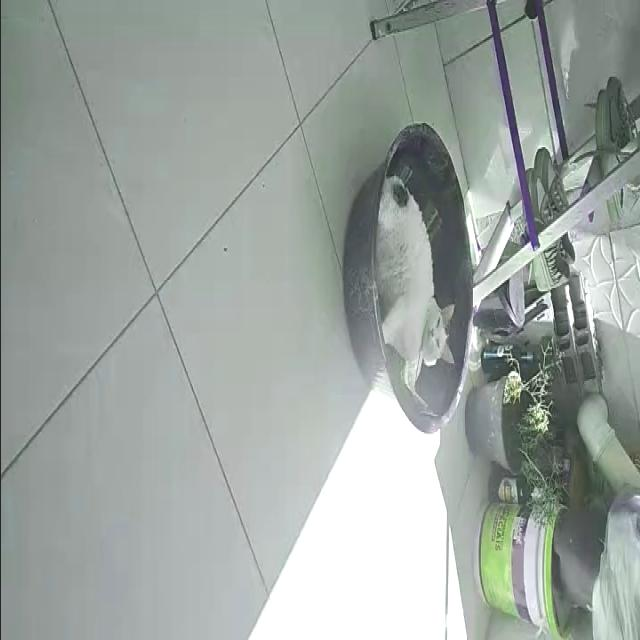Simba: (369, 161, 459, 385)
